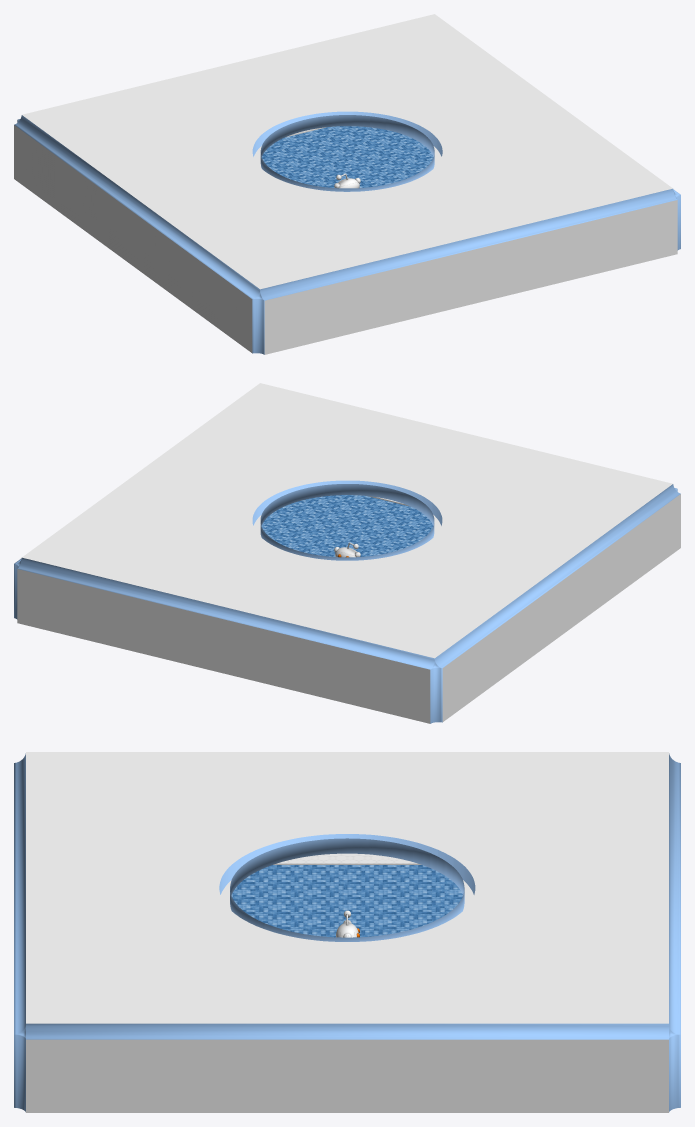
File: redditroomFinal.dae
3 views of the same model, one above another, from view 1: azimuth 30°, elevation 25°; view 2: azimuth 150°, elevation 25°; view 3: azimuth 270°, elevation 25° (orthographic). The views are drawn at different scales.
Parts seen in each view (by area): view 1: walls; view 2: walls; view 3: walls.
Boxes of the visible parts, x1,y1,x2,y2 form: walls: (14,14,680,354); walls: (14,383,680,723); walls: (14,752,680,1112).
Size of the model in its own units: 40.02 by 40.02 by 5.66.
